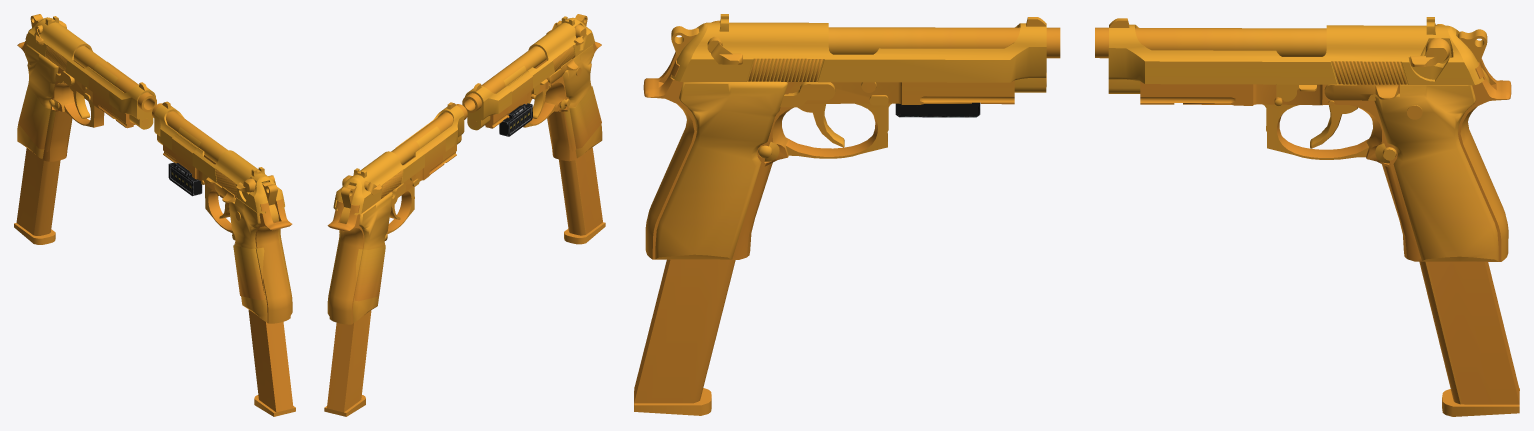
File: berettas.glb
The picture shows the model from 3 angles, left to right: view 1: azimuth 30°, elevation 25°; view 2: azimuth 150°, elevation 25°; view 3: azimuth 270°, elevation 25°; orthographic projection. The views are drawn at different scales.
Parts seen in each view (by area): view 1: Handle2, Handle1, Gunlock1, Gunlock2, Magazine2, Magazine1, Sticker1, Sticker4, Sticker2, Sticker3, StatTrack.001, Cartridge2; view 2: Handle1, Handle2, Gunlock1, Gunlock2, Magazine1, Magazine2, Sticker4, Sticker1, Sticker2, Sticker3, StatTrack.001, Cartridge1; view 3: Handle2, Handle1, Gunlock2, Gunlock1, Magazine2, Magazine1, StatTrack.001.
Part boxes in pixels (left/top/right/bottom): Handle2: left=152, top=103, right=292, bottom=323; Handle1: left=17, top=34, right=156, bottom=161; Gunlock1: left=25, top=16, right=155, bottom=129; Gunlock2: left=154, top=101, right=284, bottom=213; Magazine2: left=248, top=310, right=295, bottom=416; Magazine1: left=14, top=148, right=60, bottom=244; Sticker1: left=18, top=86, right=55, bottom=151; Sticker4: left=233, top=243, right=264, bottom=300; Sticker2: left=88, top=63, right=118, bottom=117; Sticker3: left=172, top=127, right=201, bottom=179; StatTrack.001: left=168, top=162, right=202, bottom=196; Cartridge2: left=262, top=182, right=278, bottom=222; Handle1: left=327, top=104, right=467, bottom=324; Handle2: left=462, top=41, right=602, bottom=161; Gunlock1: left=333, top=102, right=464, bottom=214; Gunlock2: left=464, top=16, right=594, bottom=130; Magazine1: left=324, top=310, right=371, bottom=416; Magazine2: left=559, top=147, right=605, bottom=244; Sticker4: left=564, top=86, right=601, bottom=151; Sticker1: left=354, top=246, right=385, bottom=301; Sticker2: left=416, top=126, right=445, bottom=179; Sticker3: left=503, top=65, right=532, bottom=117; StatTrack.001: left=499, top=103, right=532, bottom=136; Cartridge1: left=340, top=184, right=356, bottom=223; Handle2: left=643, top=27, right=1060, bottom=259; Handle1: left=1095, top=27, right=1511, bottom=261; Gunlock2: left=671, top=14, right=1046, bottom=92; Gunlock1: left=1108, top=17, right=1483, bottom=93; Magazine2: left=634, top=259, right=735, bottom=415; Magazine1: left=1419, top=261, right=1519, bottom=416; StatTrack.001: left=895, top=102, right=980, bottom=117.
Size of the model in its own units: 0.0697 by 0.3425 by 0.7042.
6 materials, 6 textured.
